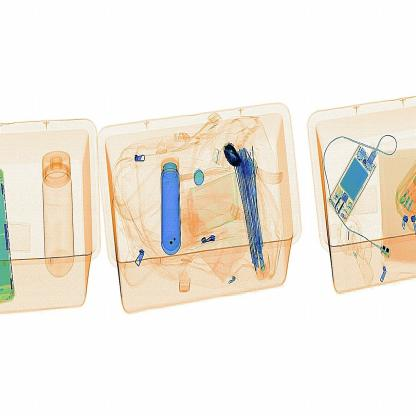scissors: (216, 131, 250, 181)
